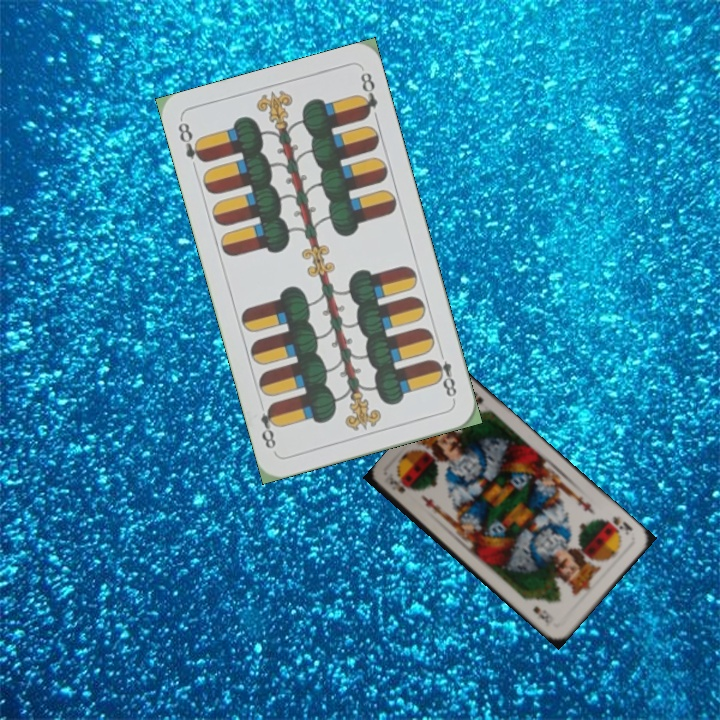E8: (428, 345, 459, 404), (173, 118, 208, 166)
SK: (602, 512, 635, 534), (385, 474, 408, 496)
